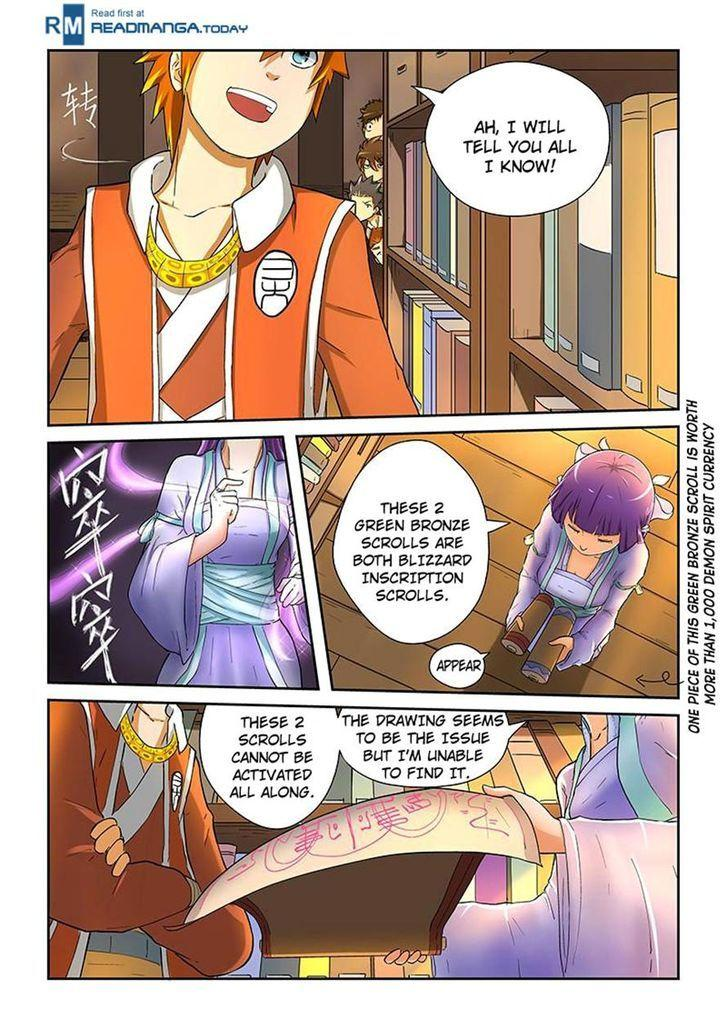Bubble: (332, 438, 492, 642), (423, 59, 612, 219), (197, 701, 338, 831), (340, 705, 511, 789), (428, 645, 487, 690)
